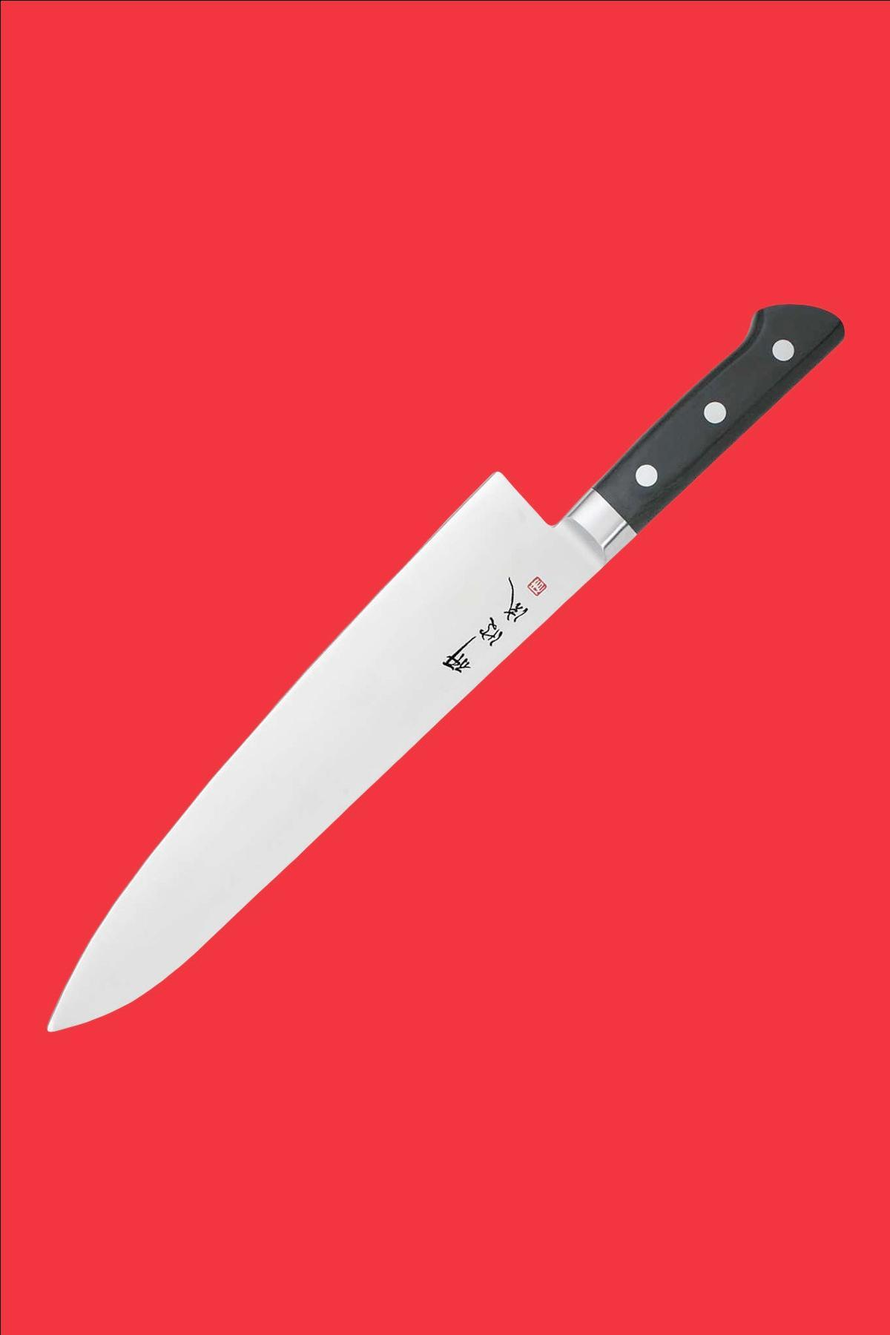melee: (40, 293, 856, 1050)
